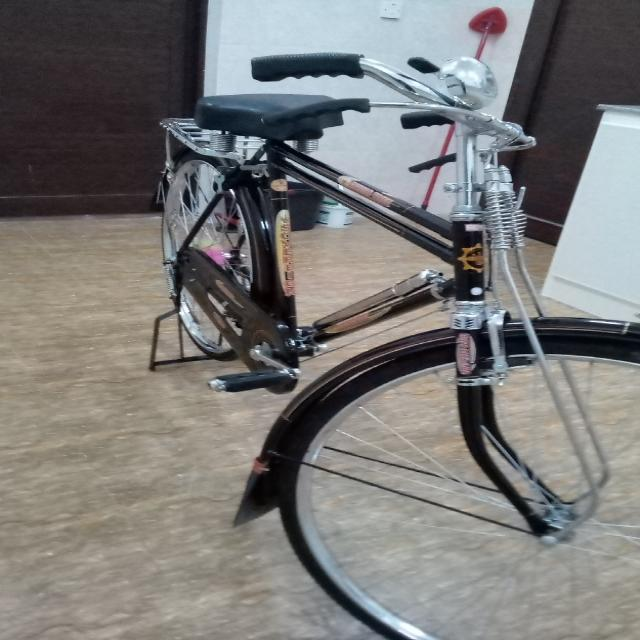bicycle: (153, 56, 640, 640)
